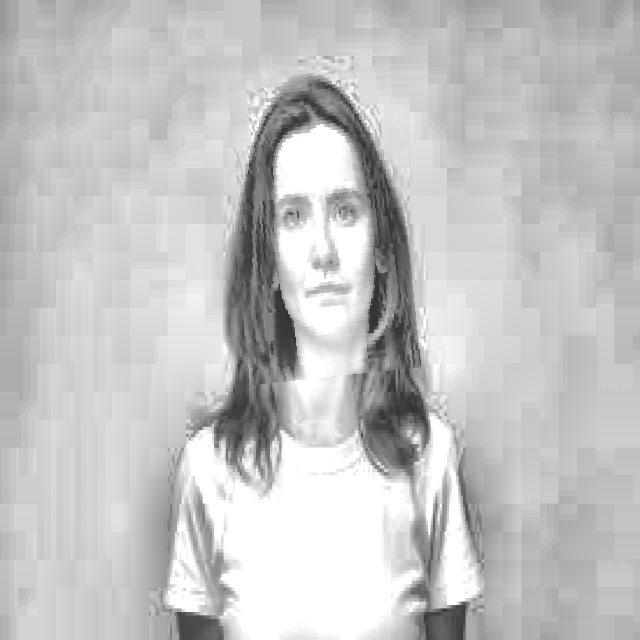neutral: (226, 70, 414, 382)
